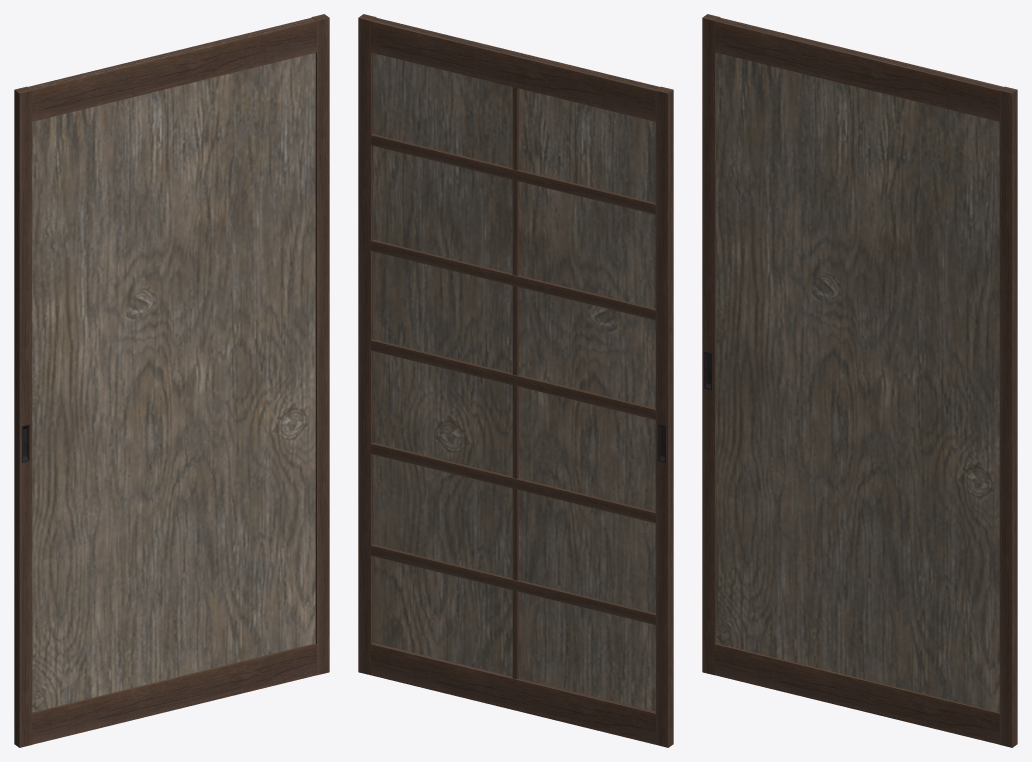
Rendered from hikido04ar.fbx.
The picture shows the model from 3 angles, left to right: view 1: azimuth 30°, elevation 25°; view 2: azimuth 150°, elevation 25°; view 3: azimuth 330°, elevation 25°; orthographic projection.
Visible parts, largest first — view 1: hikido04ar; view 2: hikido04ar; view 3: hikido04ar.
Boxes of the visible parts, box(x1,y1,x2,y2) form: hikido04ar: box(14, 14, 329, 747); hikido04ar: box(358, 14, 673, 747); hikido04ar: box(702, 14, 1017, 747).
Size of the model in its own units: 110 by 221 by 3.37.
